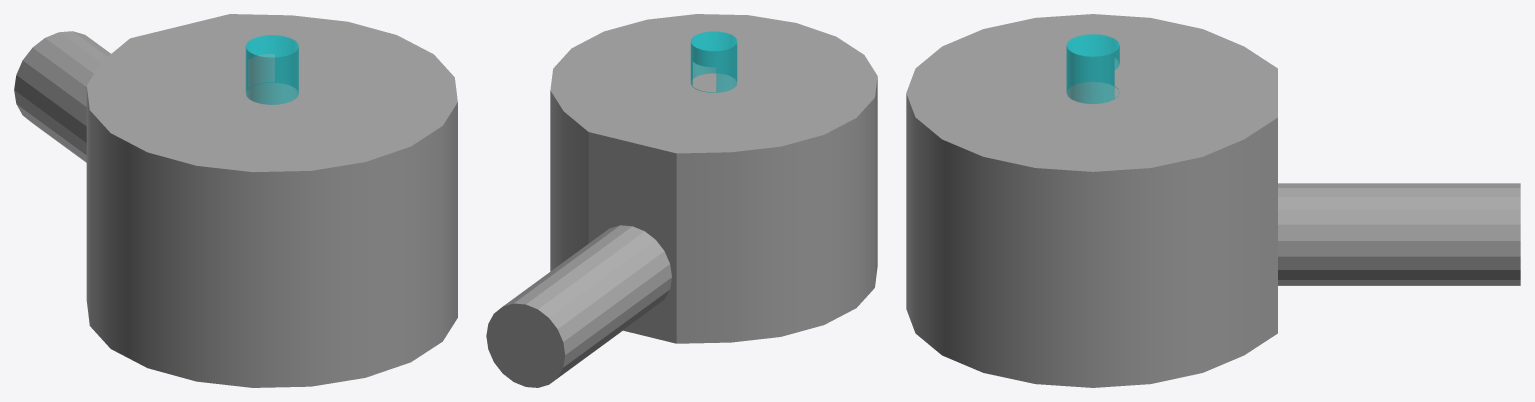
File: Game Hub.fbx
3 views of the same model, side by side, from view 1: azimuth 30°, elevation 25°; view 2: azimuth 150°, elevation 25°; view 3: azimuth 270°, elevation 25° (orthographic). The views are drawn at different scales.
Visible parts, largest first — view 1: Outer_hub, Elevator_shaft; view 2: Outer_hub, Elevator_shaft; view 3: Outer_hub, Elevator_shaft.
Part boxes in pixels (x1,y1,x2,y2): Outer_hub: [14, 14, 457, 387]; Elevator_shaft: [245, 35, 298, 104]; Outer_hub: [486, 14, 877, 387]; Elevator_shaft: [690, 31, 737, 92]; Outer_hub: [906, 14, 1520, 387]; Elevator_shaft: [1066, 34, 1119, 103].
Size of the model in its own units: 35.98 by 28.01 by 59.15.
